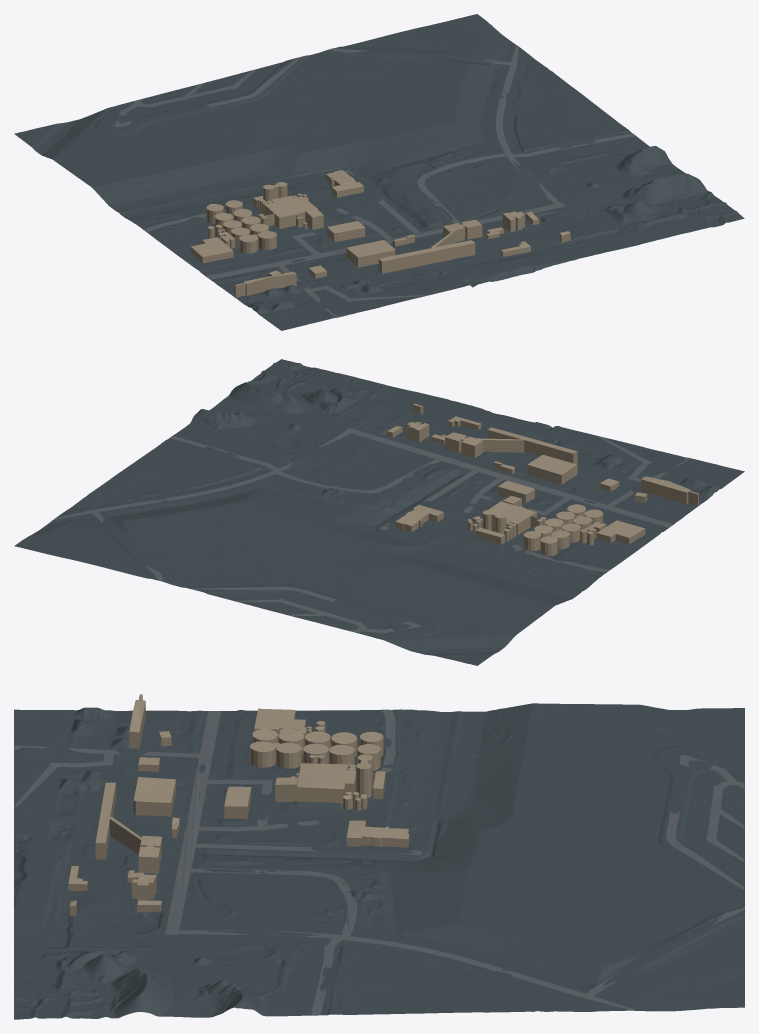
The model's file is epsg26910-1444-10879.lod0.glb.
The picture shows the model from 3 angles, top to bottom: view 1: azimuth 30°, elevation 25°; view 2: azimuth 150°, elevation 25°; view 3: azimuth 270°, elevation 25°; orthographic projection. The views are drawn at different scales.
Parts seen in each view (by area): view 1: epsg26910-1444-10879-lod0; view 2: epsg26910-1444-10879-lod0; view 3: epsg26910-1444-10879-lod0.
Boxes of the visible parts, left/top/right/bottom form: epsg26910-1444-10879-lod0: left=14, top=14, right=744, bottom=330; epsg26910-1444-10879-lod0: left=14, top=359, right=744, bottom=665; epsg26910-1444-10879-lod0: left=14, top=694, right=744, bottom=1019.
Bounding box in the file's own units: 384 × 19.52 × 384.
